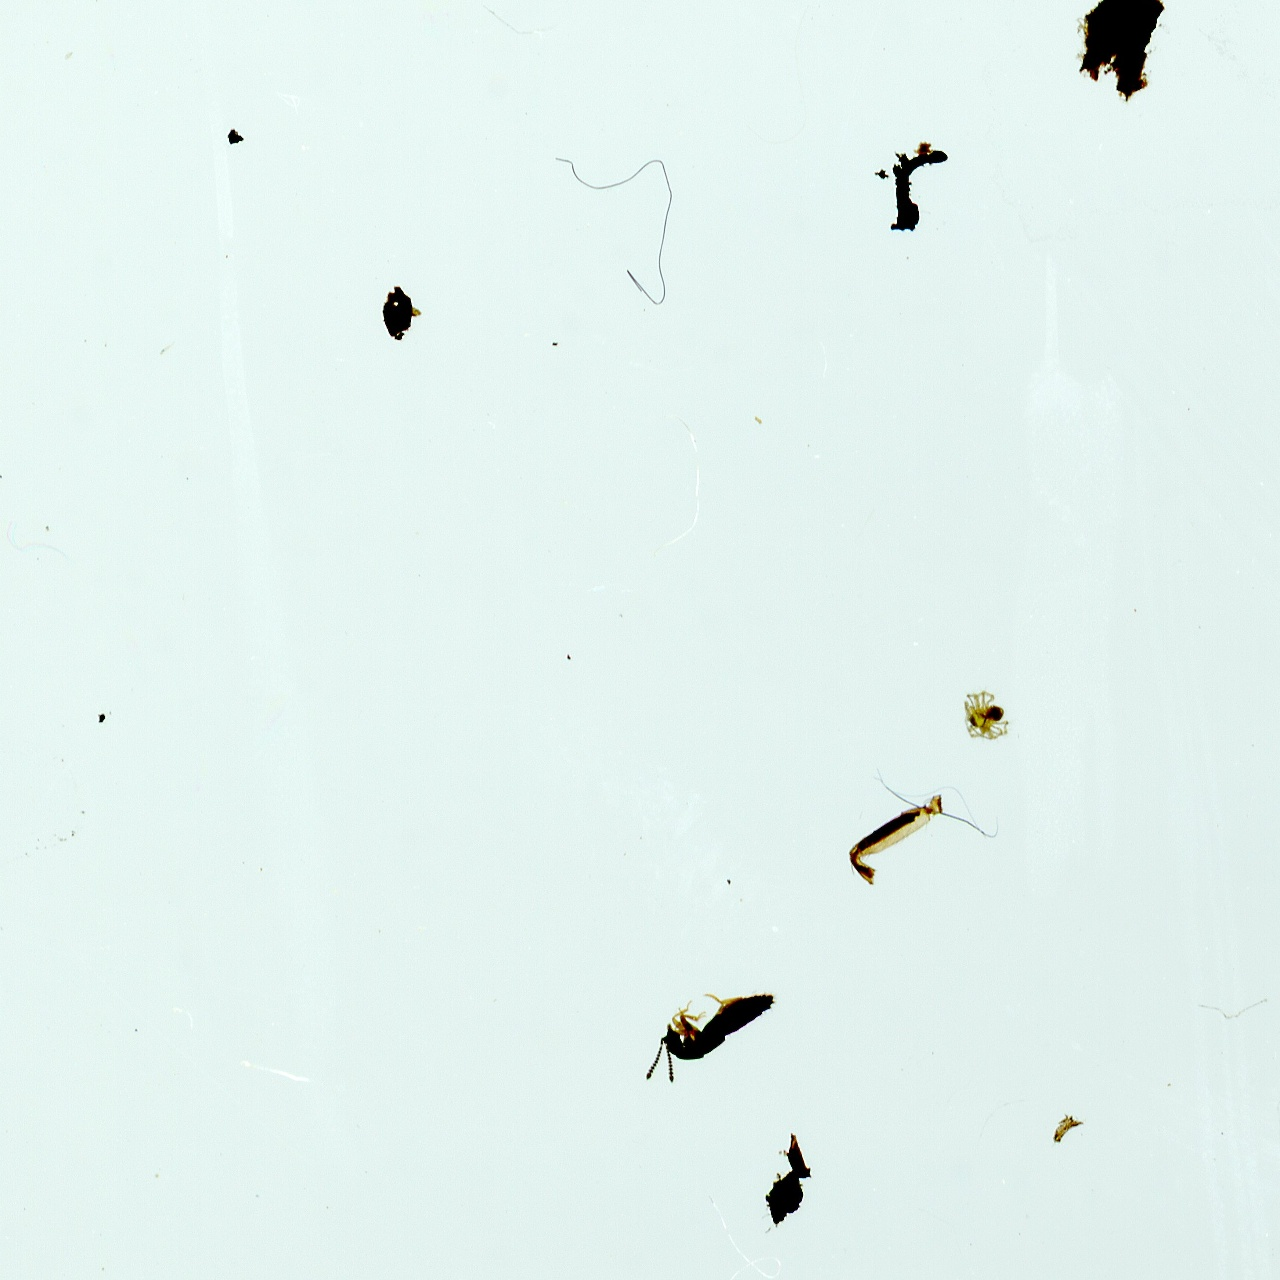arthropod: (619, 954, 795, 1099), (957, 687, 1015, 745)
